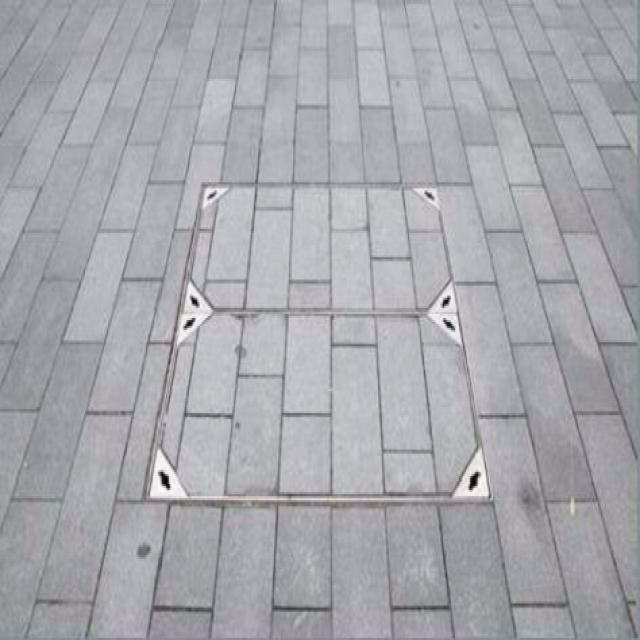manhole: (144, 166, 490, 506)
